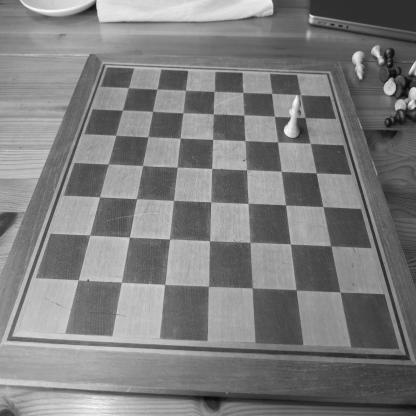black-pawn: (384, 109, 406, 127), (384, 47, 395, 69)
white-bishop: (283, 94, 302, 139), (351, 50, 367, 82)
white-pawn: (370, 44, 386, 67)
